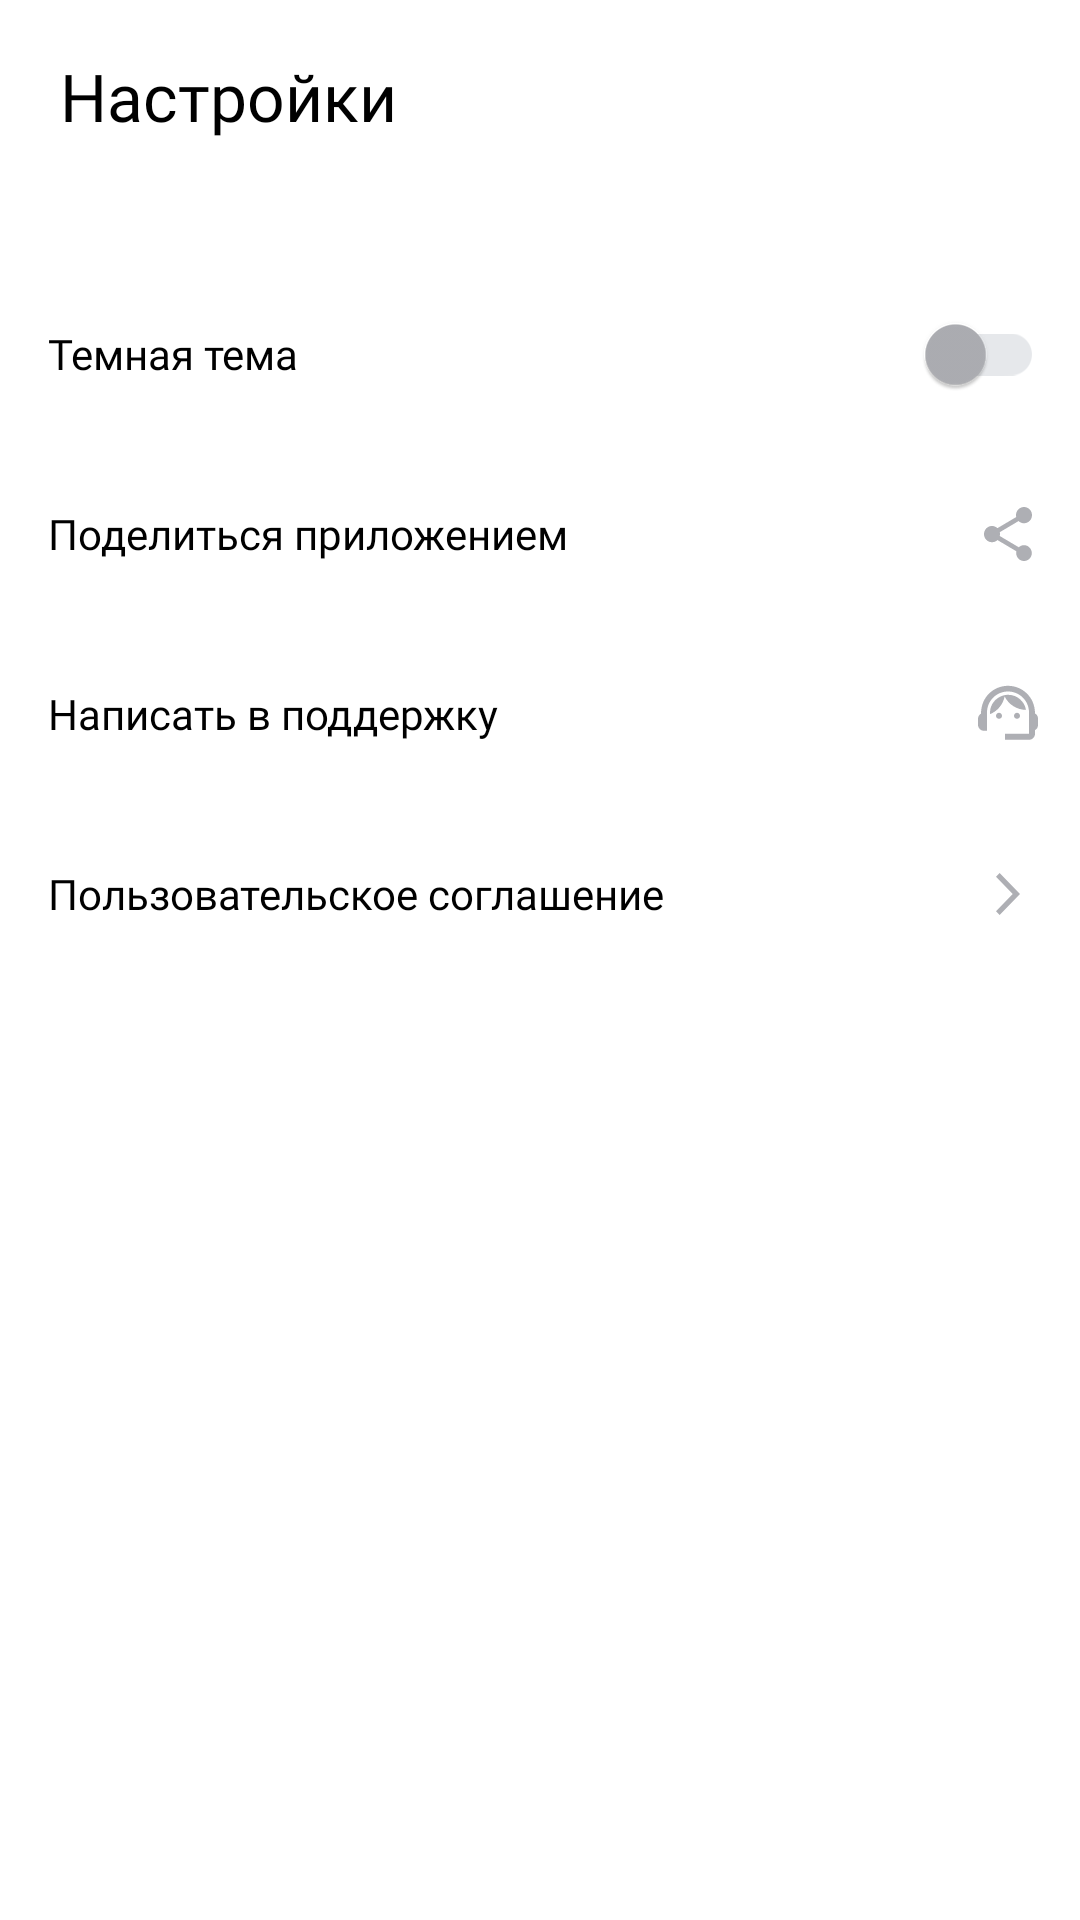

Icons on this 1080w x 1920h Android screen, each with the point to tap as (x,y):
arrow forvard: (1008,894)
share: (1008,534)
support: (1008,713)
